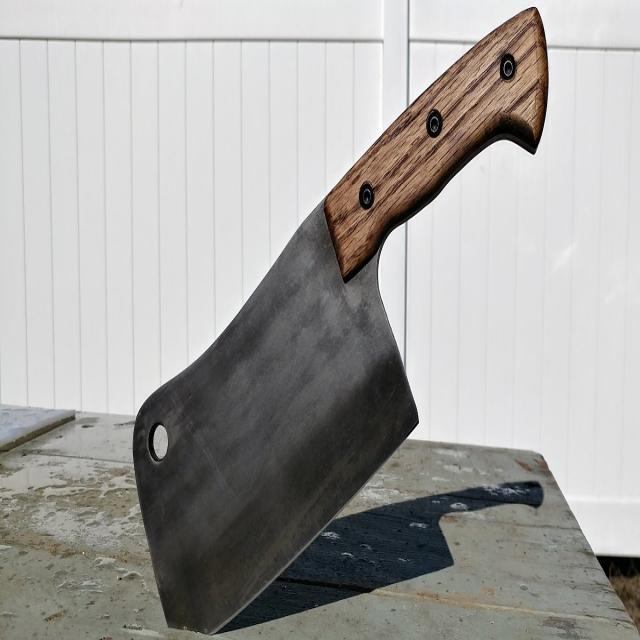cleaver: (134, 5, 550, 636)
